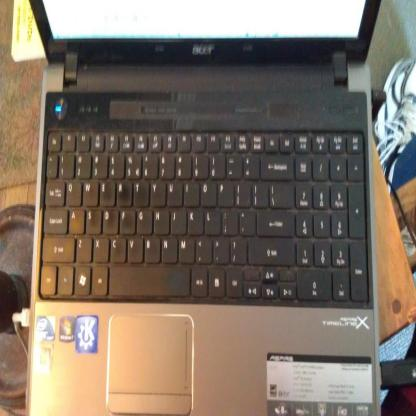board: (29, 0, 381, 416)
